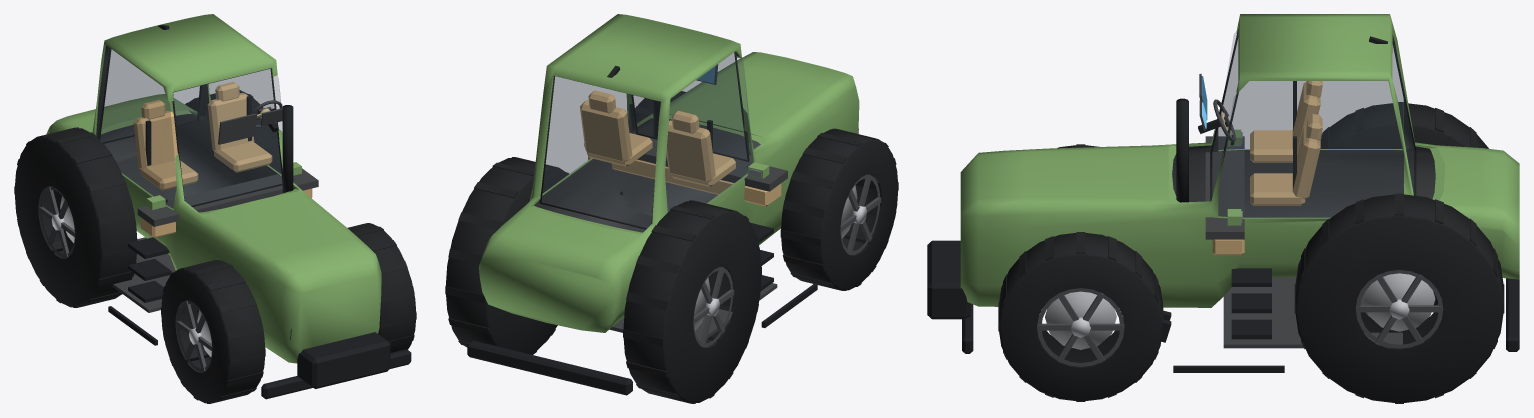
File: fleet-tractor.glb
3 views of the same model, side by side, from view 1: azimuth 30°, elevation 25°; view 2: azimuth 150°, elevation 25°; view 3: azimuth 270°, elevation 25° (orthographic). The views are drawn at different scales.
Parts seen in each view (by area): view 1: Body, Surface_CarRoot_Glass, Surface_WheelRearR_Tyre, Surface_WheelFrontR_Tyre, Surface_CarRoot_BlackTrim, Interior_CarRoot_InteriorLeather, Interior_CarRoot_InteriorDark, Surface_WheelFrontL_Tyre, InteriorSeatBaseL, Surface_WheelFrontR_Rim, Surface_WheelRearR_Rim, Surface_WheelRearL_Tyre (+1 smaller); view 2: Body, Surface_CarRoot_Glass, Surface_WheelRearR_Tyre, Surface_WheelFrontR_Tyre, Surface_WheelRearL_Tyre, Interior_CarRoot_InteriorLeather, Surface_CarRoot_BlackTrim, Interior_CarRoot_InteriorDark, Surface_WheelRearR_Rim, Surface_WheelFrontR_Rim, InteriorSeatBaseL; view 3: Body, Surface_WheelRearL_Tyre, Surface_CarRoot_Glass, Surface_WheelFrontL_Tyre, Surface_CarRoot_BlackTrim, Interior_CarRoot_InteriorDark, Surface_WheelRearR_Tyre, Interior_CarRoot_InteriorLeather, Surface_WheelRearL_Rim, Surface_WheelFrontL_Rim, WheelRearL_BrakeDisc, WheelFrontL_BrakeDisc (+2 smaller).
Boxes of the visible parts, bbox=[...] form: Body: bbox=[46, 14, 381, 363]; Surface_CarRoot_Glass: bbox=[95, 45, 282, 209]; Surface_WheelRearR_Tyre: bbox=[14, 127, 137, 307]; Surface_WheelFrontR_Tyre: bbox=[161, 260, 265, 403]; Surface_CarRoot_BlackTrim: bbox=[100, 25, 411, 399]; Interior_CarRoot_InteriorLeather: bbox=[133, 82, 312, 237]; Interior_CarRoot_InteriorDark: bbox=[112, 108, 318, 312]; Surface_WheelFrontL_Tyre: bbox=[347, 223, 416, 352]; InteriorSeatBaseL: bbox=[214, 141, 272, 172]; Surface_WheelFrontR_Rim: bbox=[176, 300, 212, 371]; Surface_WheelRearR_Rim: bbox=[39, 186, 75, 257]; Surface_WheelRearL_Tyre: bbox=[185, 90, 281, 173]; Body: bbox=[479, 14, 859, 332]; Surface_CarRoot_Glass: bbox=[541, 51, 753, 227]; Surface_WheelRearR_Tyre: bbox=[623, 200, 761, 403]; Surface_WheelFrontR_Tyre: bbox=[780, 128, 898, 290]; Surface_WheelRearL_Tyre: bbox=[445, 157, 568, 354]; Interior_CarRoot_InteriorLeather: bbox=[580, 90, 781, 206]; Surface_CarRoot_BlackTrim: bbox=[467, 51, 858, 395]; Interior_CarRoot_InteriorDark: bbox=[584, 64, 787, 340]; Surface_WheelRearR_Rim: bbox=[693, 267, 734, 347]; Surface_WheelFrontR_Rim: bbox=[840, 174, 881, 254]; InteriorSeatBaseL: bbox=[587, 133, 652, 166]; Body: bbox=[960, 14, 1519, 307]; Surface_WheelRearL_Tyre: bbox=[1294, 193, 1504, 403]; Surface_CarRoot_Glass: bbox=[1212, 32, 1414, 217]; Surface_WheelFrontL_Tyre: bbox=[998, 232, 1163, 401]; Surface_CarRoot_BlackTrim: bbox=[927, 29, 1519, 372]; Interior_CarRoot_InteriorDark: bbox=[1199, 74, 1402, 348]; Surface_WheelRearR_Tyre: bbox=[1320, 102, 1488, 305]; Interior_CarRoot_InteriorLeather: bbox=[1212, 81, 1322, 255]; Surface_WheelRearL_Rim: bbox=[1355, 270, 1443, 348]; Surface_WheelFrontL_Rim: bbox=[1037, 288, 1124, 366]; WheelRearL_BrakeDisc: bbox=[1363, 273, 1435, 331]; WheelFrontL_BrakeDisc: bbox=[1045, 291, 1116, 349].
Size of the model in its own units: 2.36 by 2.97 by 5.14.
